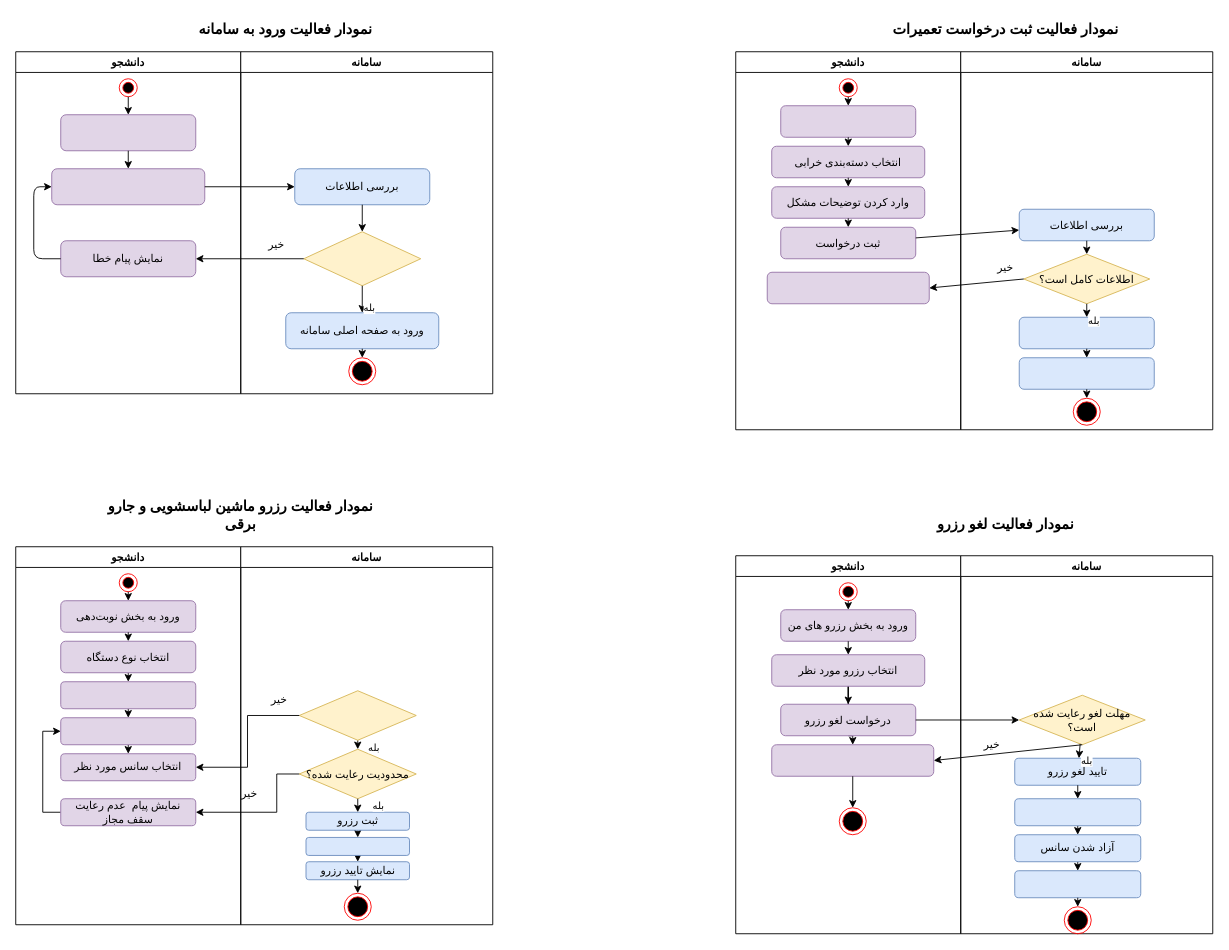
Image size: 1229x950. Some labels were removed from this diagram. Each missing label, with the box of its shape:
اطلاعات معتبر است؟: (303, 231, 421, 286)
اعلام موفقیت به کاربر: (1018, 357, 1154, 389)
انتخاب دستگاه و تاریخ: (60, 681, 196, 709)
باز کردن صفحه ورود: (60, 114, 196, 151)
بروز رسانی وضعیت سانس: (305, 837, 410, 855)
تغییر وضعیت رزرو به لغو شده: (1014, 798, 1141, 826)
ذخیره درخواست: (1018, 316, 1154, 349)
سانس آزاد است؟: (298, 690, 416, 740)
مشاهده سانس هاس موجود: (60, 717, 196, 745)
نمایش پیام تایید لغو: (1014, 870, 1141, 898)
نمایش پیام تکمیل اطلاعات: (766, 271, 929, 304)
نمایش پیام عدم امکان لغو: (771, 744, 934, 776)
وارد کردن نام کاربری و رمز عبور: (51, 168, 205, 205)
ورود به بخش تعمیرات: (780, 105, 916, 137)
